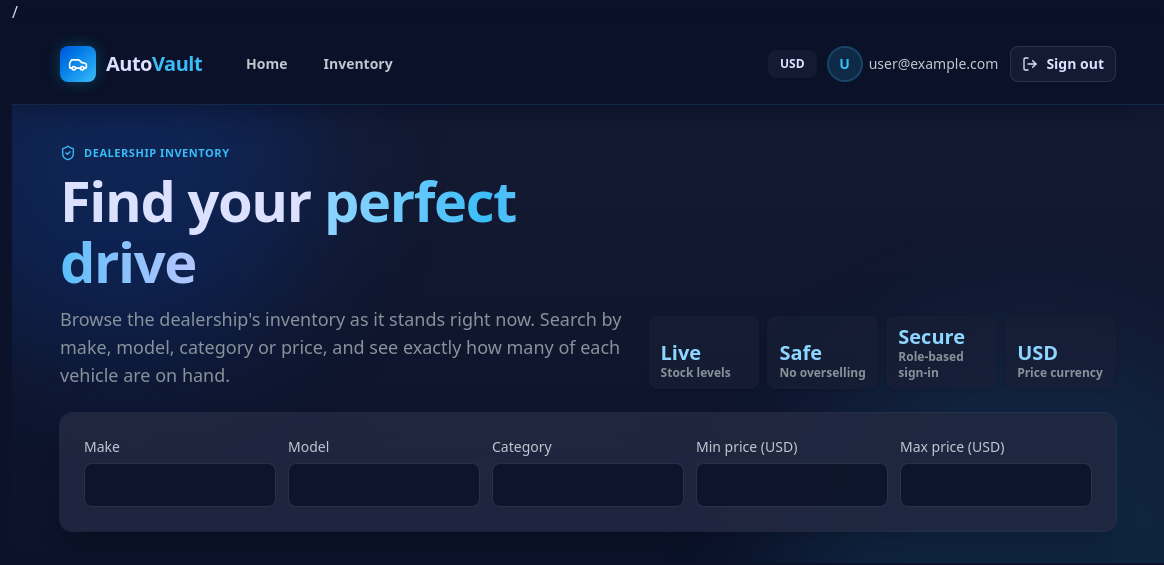
Test case: searching the vehicles › keeps the search fields when a search fails, and Try again repeats that search
In the field labelled "Make": (180, 485) [84,463,276,507], type "x"
(page scrolled)
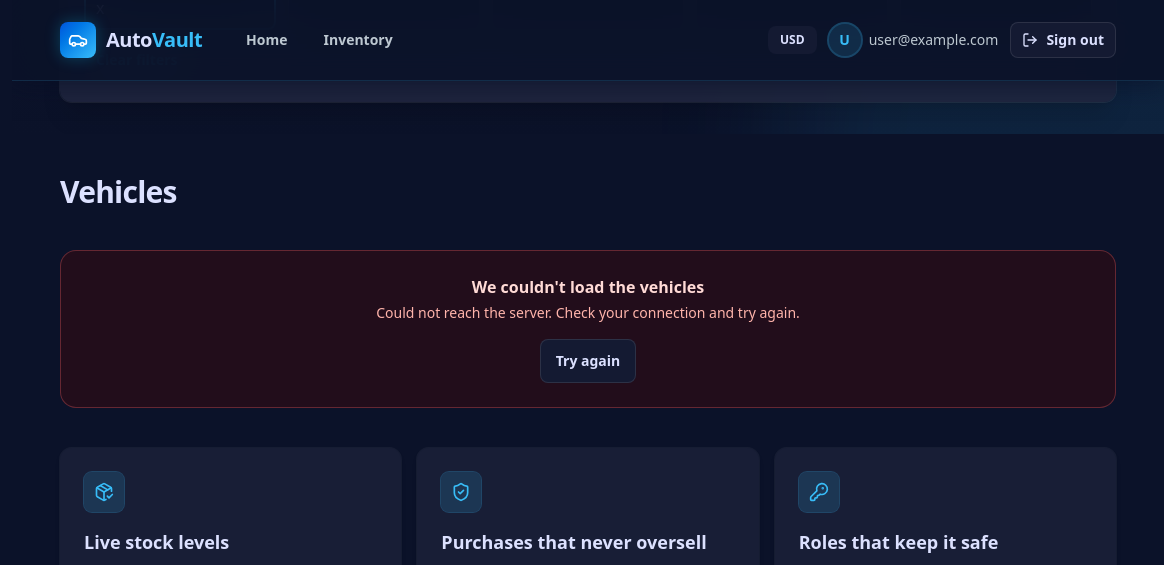
Check: the message shows "Could not reach the server", box [376,303,800,322]
Click the button "Try again": (588, 361) [540,339,636,383]
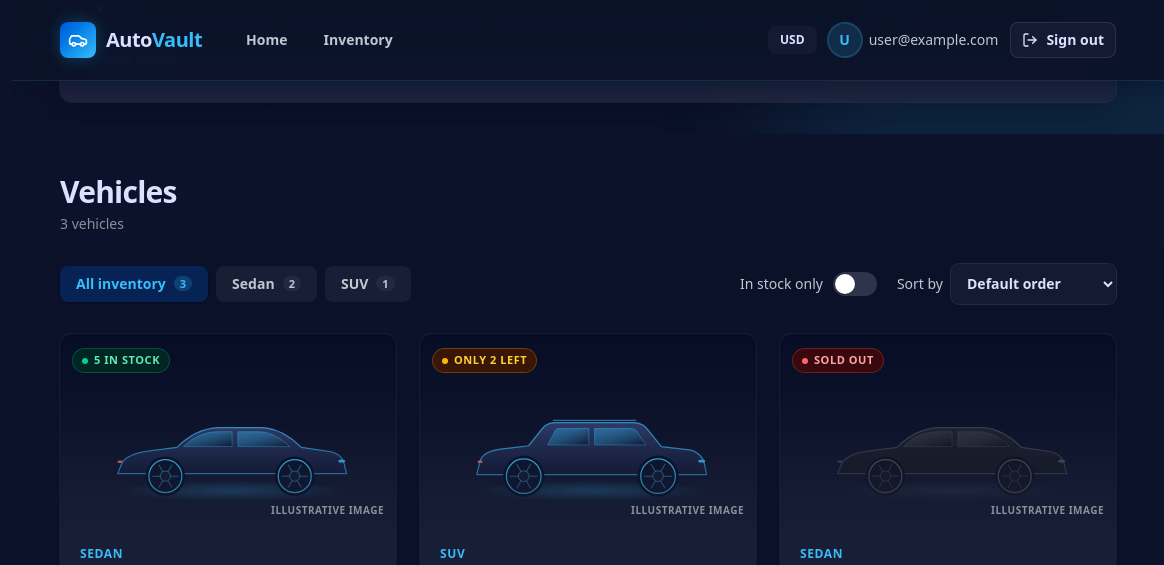
Check: the message "We couldn't load the vehicles Could not reach the server. Check your connection" is gone
